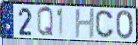1: (56, 6, 65, 39)
2: (16, 5, 34, 38)
C: (94, 9, 115, 39)
H: (74, 8, 96, 40)
O: (115, 9, 134, 41)
Q: (36, 5, 55, 38)
